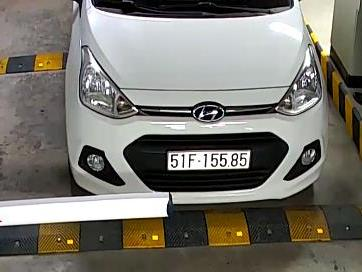number: (167, 149, 250, 172)
